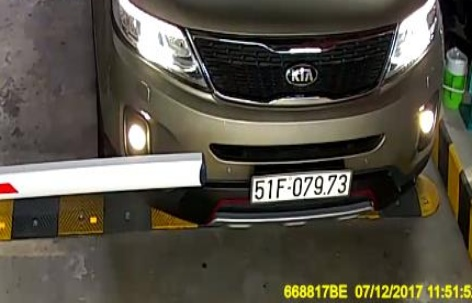plate: (239, 164, 353, 204)
